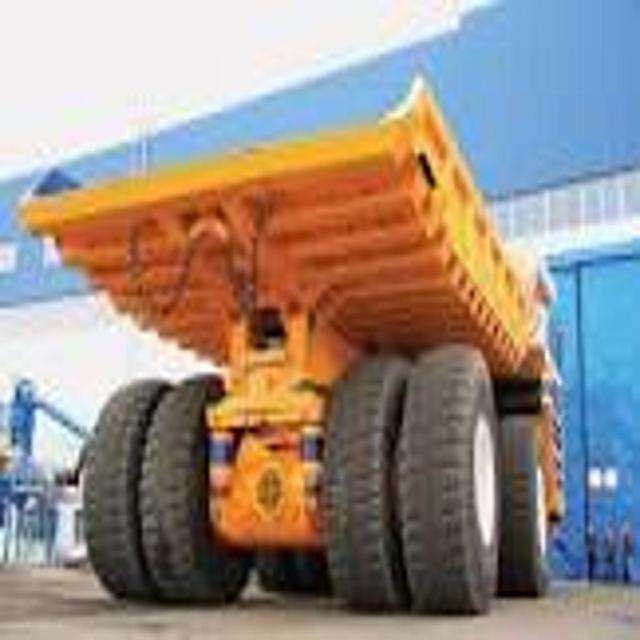dump_truck: (20, 72, 567, 622)
